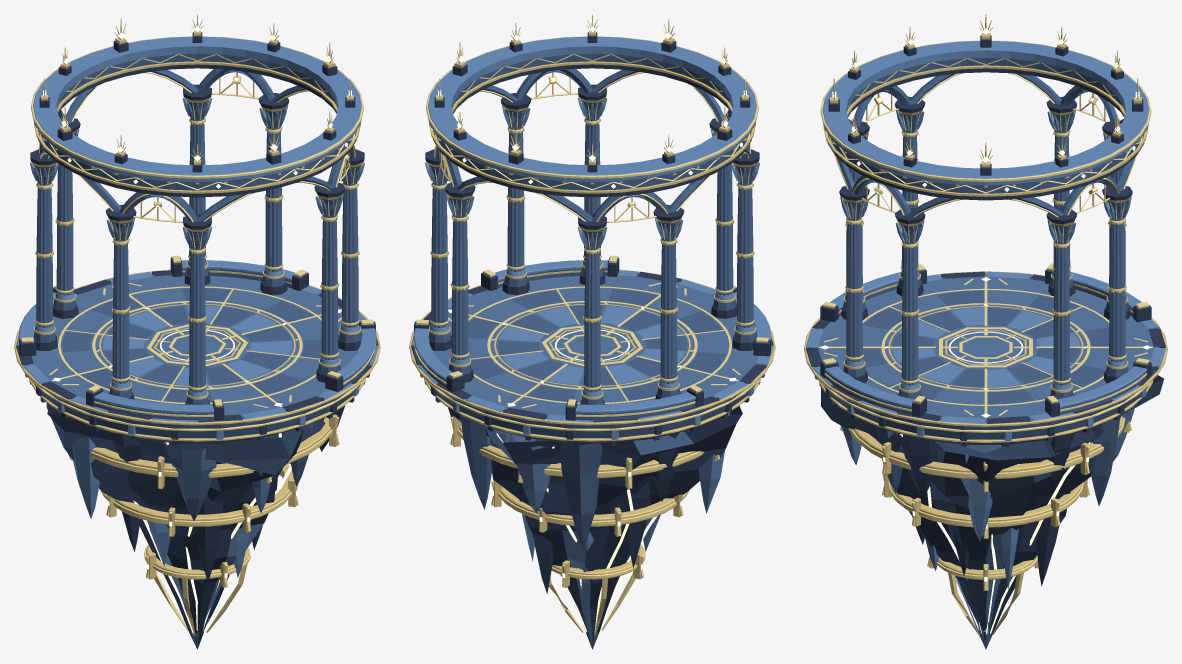
The model's file is temple_island.glb.
The picture shows the model from 3 angles, left to right: view 1: azimuth 30°, elevation 25°; view 2: azimuth 150°, elevation 25°; view 3: azimuth 270°, elevation 25°; orthographic projection.
Parts seen in each view (by area): view 1: ColonnadeAndCrown, TerracedDeck, FloatingBasaltUnderside; view 2: ColonnadeAndCrown, TerracedDeck, FloatingBasaltUnderside; view 3: ColonnadeAndCrown, TerracedDeck, FloatingBasaltUnderside.
Boxes of the visible parts, x1,y1,x2,y2 form: ColonnadeAndCrown: (30,14,364,404); TerracedDeck: (14,255,380,445); FloatingBasaltUnderside: (46,403,345,649); ColonnadeAndCrown: (425,14,759,404); TerracedDeck: (409,255,775,445); FloatingBasaltUnderside: (448,406,742,649); ColonnadeAndCrown: (820,14,1151,399); TerracedDeck: (804,263,1167,446); FloatingBasaltUnderside: (821,375,1163,649).
Size of the model in its own units: 16.9 by 29.3 by 16.9.
